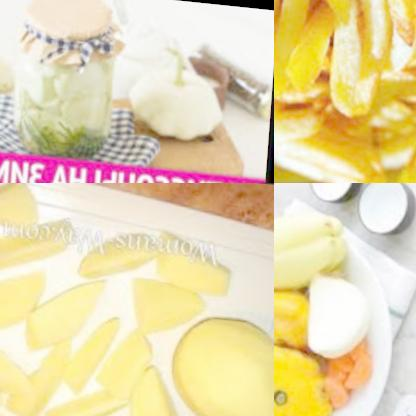bell pepper: (274, 190, 354, 294)
carrot: (314, 328, 374, 407)
onion: (304, 261, 378, 361)
potato: (0, 183, 221, 416), (274, 0, 416, 183), (157, 291, 274, 416)
squash-patisson: (127, 44, 235, 134), (24, 46, 112, 127), (274, 326, 343, 416), (274, 278, 315, 355), (0, 35, 16, 95)
